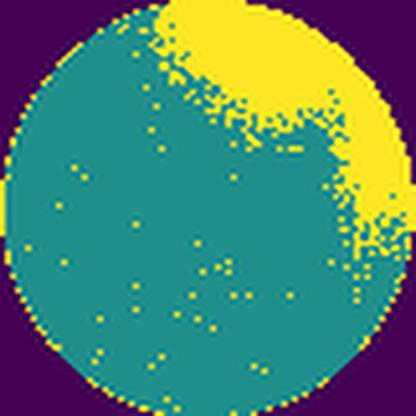Edge-Loc: (149, 0, 415, 271)
